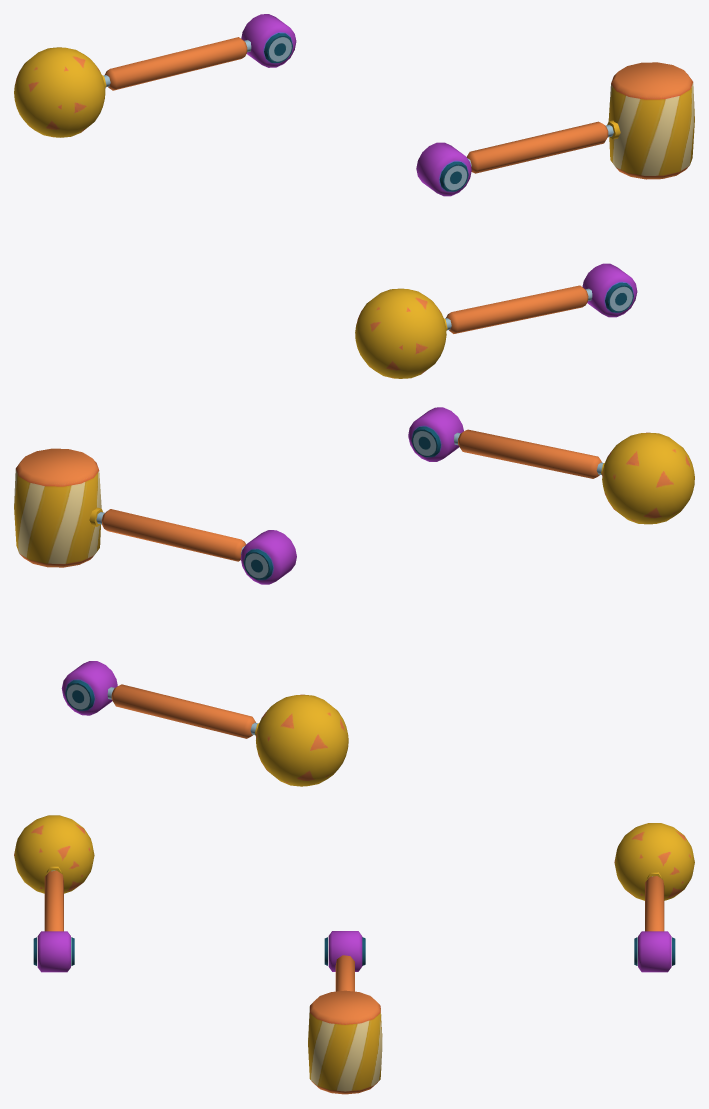
The model's file is columpio.fbx.
3 views of the same model, one above another, from view 1: azimuth 30°, elevation 25°; view 2: azimuth 150°, elevation 25°; view 3: azimuth 270°, elevation 25° (orthographic). The views are drawn at different scales.
Parts seen in each view (by area): view 1: SwingObstacleHammer (1).002_SwingObstacleHammer.002_0, SwingObstacleHammer (1).001_SwingObstacleHammer.001_0, SwingObstacleHammer (1)_SwingObstacleHammer_0; view 2: SwingObstacleHammer (1).002_SwingObstacleHammer.002_0, SwingObstacleHammer (1).001_SwingObstacleHammer.001_0, SwingObstacleHammer (1)_SwingObstacleHammer_0; view 3: SwingObstacleHammer (1).002_SwingObstacleHammer.002_0, SwingObstacleHammer (1)_SwingObstacleHammer_0, SwingObstacleHammer (1).001_SwingObstacleHammer.001_0.
Boxes of the visible parts, x1,y1,x2,y2 form: SwingObstacleHammer (1).002_SwingObstacleHammer.002_0: (416, 62, 694, 196); SwingObstacleHammer (1).001_SwingObstacleHammer.001_0: (14, 14, 296, 137); SwingObstacleHammer (1)_SwingObstacleHammer_0: (355, 263, 637, 378); SwingObstacleHammer (1).002_SwingObstacleHammer.002_0: (14, 448, 296, 584); SwingObstacleHammer (1).001_SwingObstacleHammer.001_0: (61, 661, 348, 786); SwingObstacleHammer (1)_SwingObstacleHammer_0: (408, 407, 694, 524); SwingObstacleHammer (1).002_SwingObstacleHammer.002_0: (308, 931, 382, 1094); SwingObstacleHammer (1)_SwingObstacleHammer_0: (14, 815, 94, 972); SwingObstacleHammer (1).001_SwingObstacleHammer.001_0: (614, 823, 694, 972).
Bounding box in the file's own units: 1087 × 198 × 1476.
Materials: 5 (5 with a texture image).
